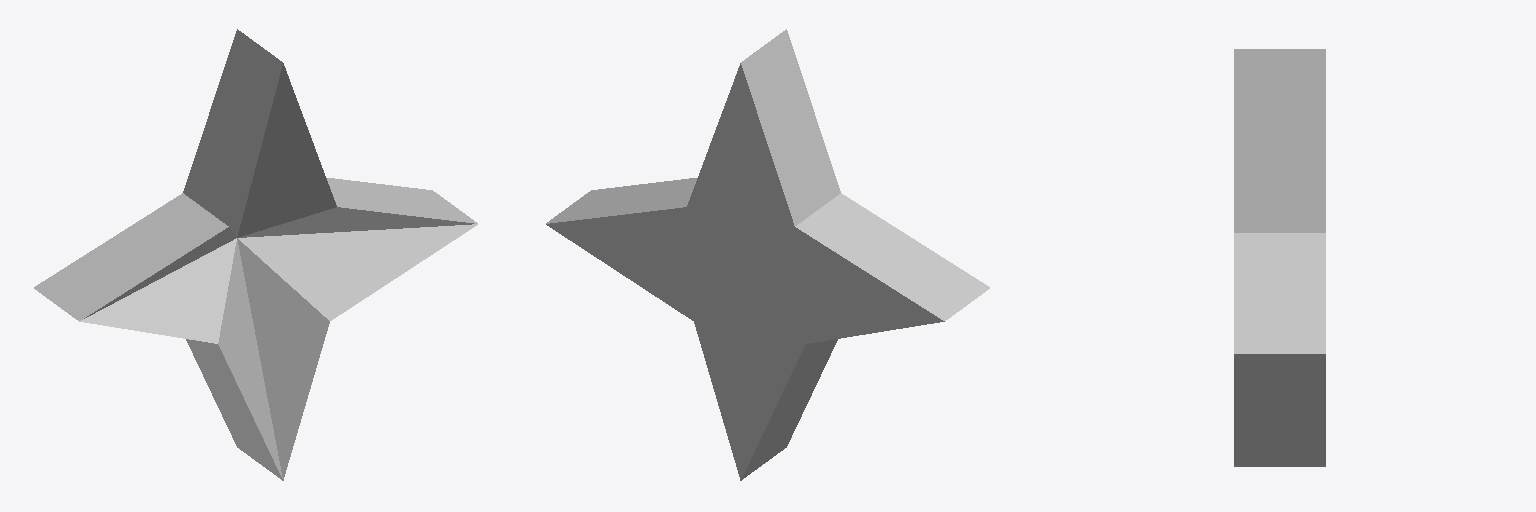
File: original-37.obj
The picture shows the model from 3 angles: view 1: azimuth 30°, elevation 25°; view 2: azimuth 150°, elevation 25°; view 3: azimuth 270°, elevation 25°; orthographic projection.
Visible parts, largest first — view 1: #ID5; view 2: #ID5; view 3: #ID5.
Part boxes in pixels (bbox=[...]): #ID5: bbox=[34, 29, 477, 480]; #ID5: bbox=[546, 29, 989, 480]; #ID5: bbox=[1234, 49, 1325, 466].
Size of the model in its own units: 0.0961 by 0.0961 by 0.0192.